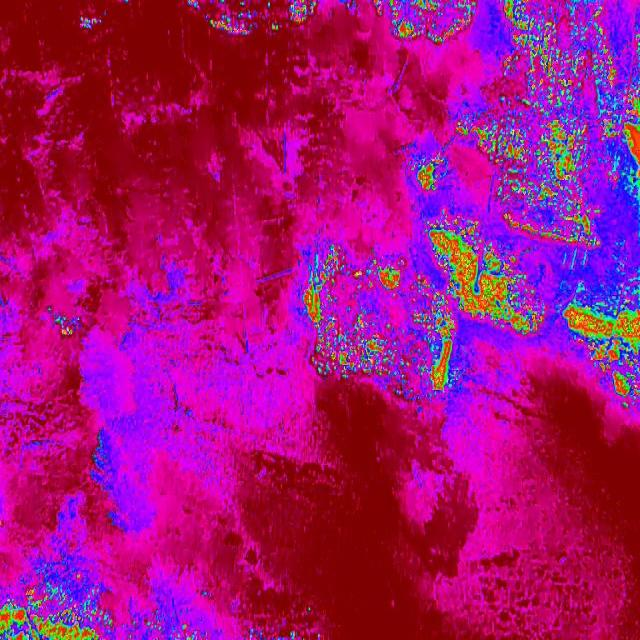fire: (458, 0, 640, 246), (303, 245, 457, 403), (426, 216, 544, 334), (0, 555, 127, 640), (558, 279, 640, 407), (182, 0, 315, 46), (367, 0, 479, 49), (404, 142, 457, 200)
